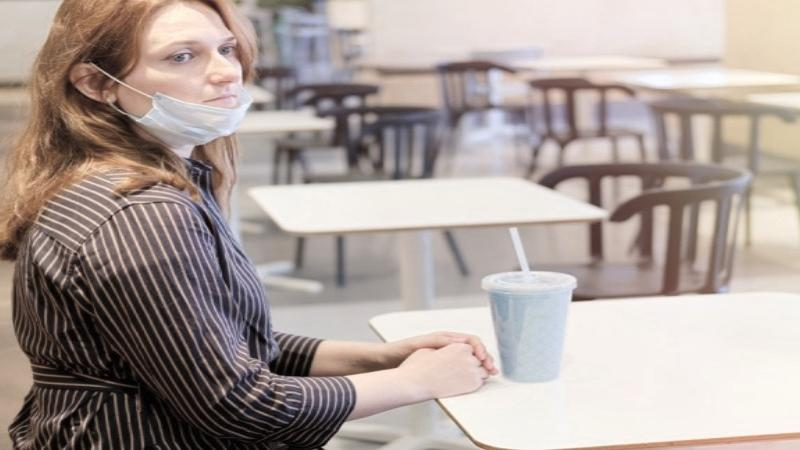mask_weared_incorrect: (38, 1, 251, 148)
